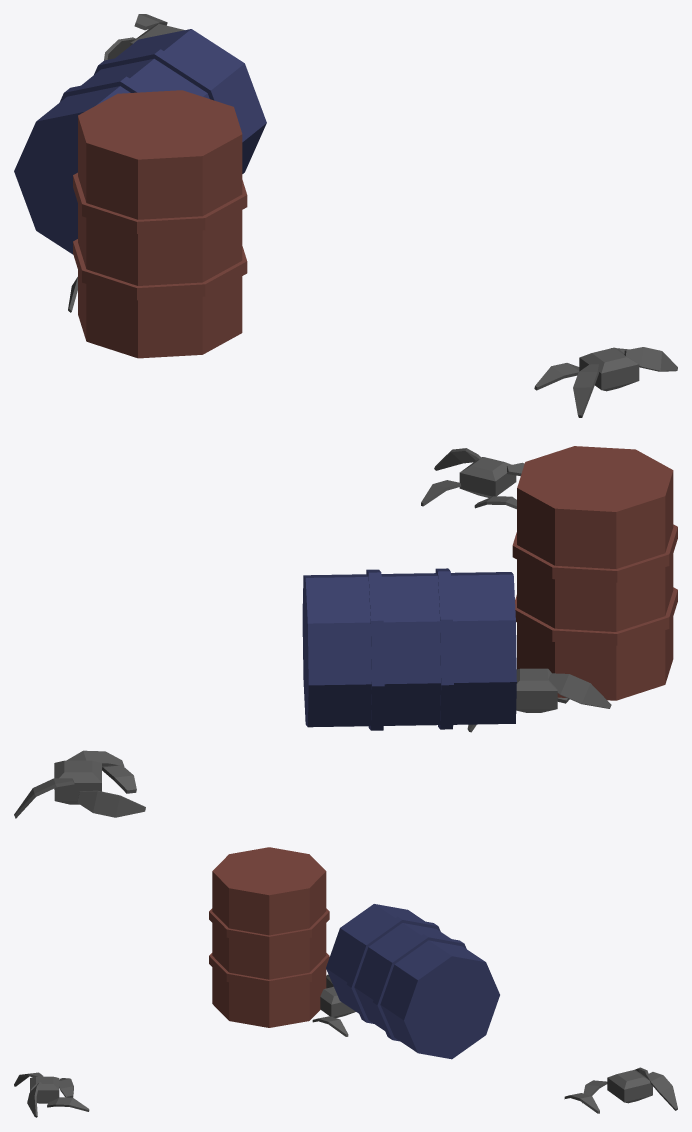
The model's file is openable_box_common.glb.
3 renders of one model, top to bottom at view 1: azimuth 30°, elevation 25°; view 2: azimuth 150°, elevation 25°; view 3: azimuth 270°, elevation 25°, orthographic. The views are drawn at different scales.
Parts seen in each view (by area): view 1: Cylinder, Cylinder.001, Cube.004, Cube.014; view 2: Cylinder, Cylinder.001, Cube.014, Cube.004, Cube.009; view 3: Cylinder, Cylinder.001, Cube.014, Cube.004, Cube.009.
Boxes of the visible parts, x1,y1,x2,y2 form: Cylinder: [73, 90, 247, 358]; Cylinder.001: [14, 29, 266, 254]; Cube.004: [534, 347, 677, 417]; Cube.014: [104, 14, 184, 60]; Cylinder: [512, 446, 677, 700]; Cylinder.001: [302, 568, 516, 730]; Cube.014: [14, 750, 145, 818]; Cube.004: [421, 448, 524, 509]; Cube.009: [467, 668, 611, 732]; Cylinder: [209, 847, 329, 1027]; Cylinder.001: [326, 904, 499, 1059]; Cube.014: [564, 1067, 677, 1113]; Cube.004: [14, 1072, 89, 1117]; Cube.009: [312, 974, 355, 1036].
Bounding box in the file's own units: 4.04 × 1.94 × 8.25.
